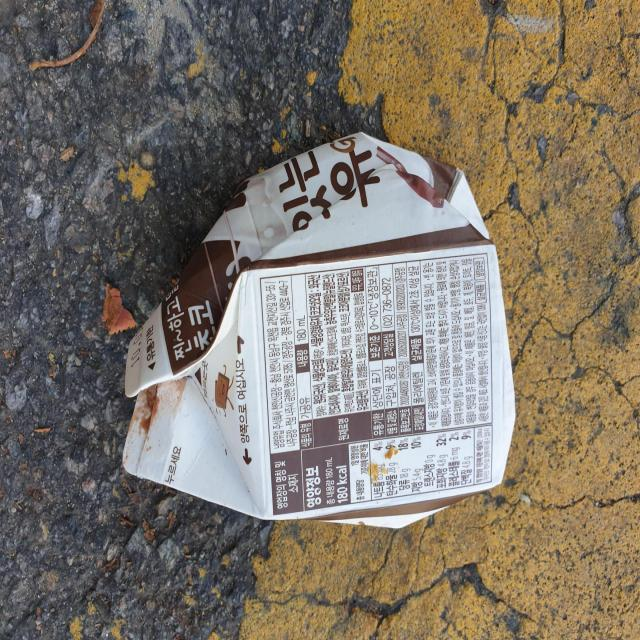paperpack: (123, 132, 516, 527)
